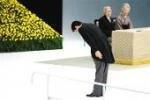bending: (69, 19, 116, 100)
